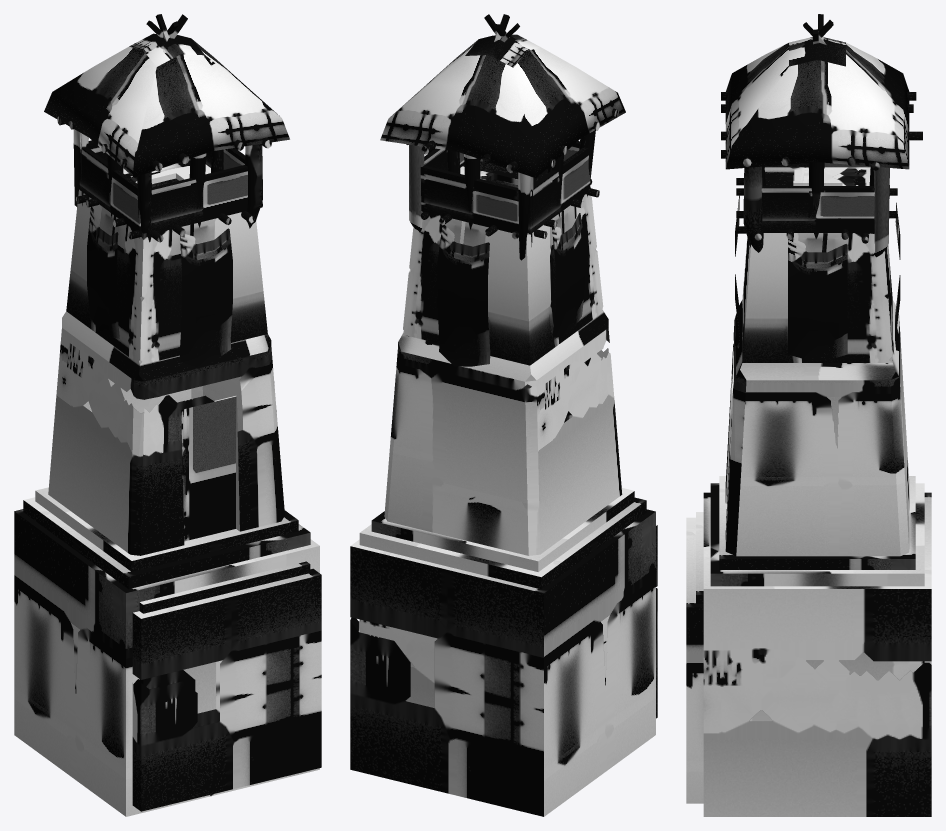
The model's file is city_tower_hopi.dae.
3 renders of one model, left to right at view 1: azimuth 30°, elevation 25°; view 2: azimuth 150°, elevation 25°; view 3: azimuth 270°, elevation 25°, orthographic.
Parts seen in each view (by area): view 1: TowerCity; view 2: TowerCity; view 3: TowerCity.
Boxes of the visible parts, x1,y1,x2,y2 form: TowerCity: (14,14,321,816); TowerCity: (350,14,657,816); TowerCity: (686,14,931,816).
Size of the model in its own units: 7.64 by 8.22 by 27.65.
